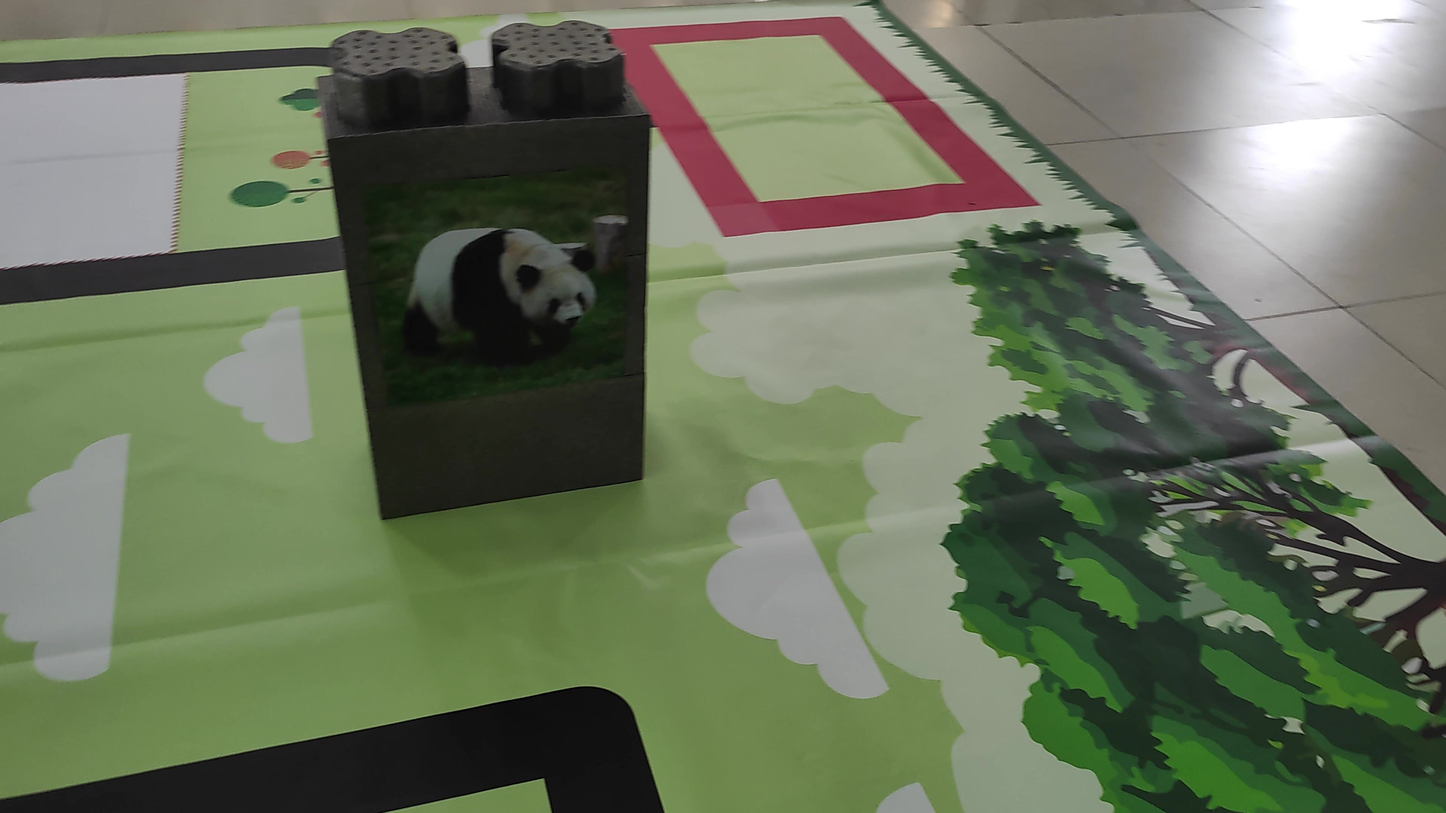panda: (390, 207, 613, 375)
